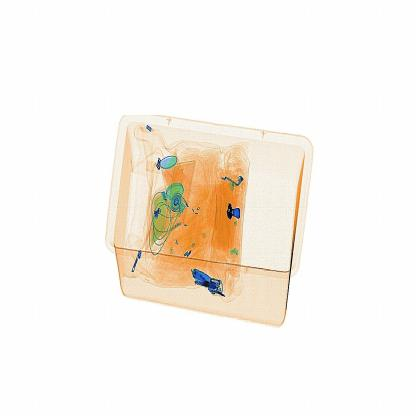wrench: (223, 200, 250, 225)
